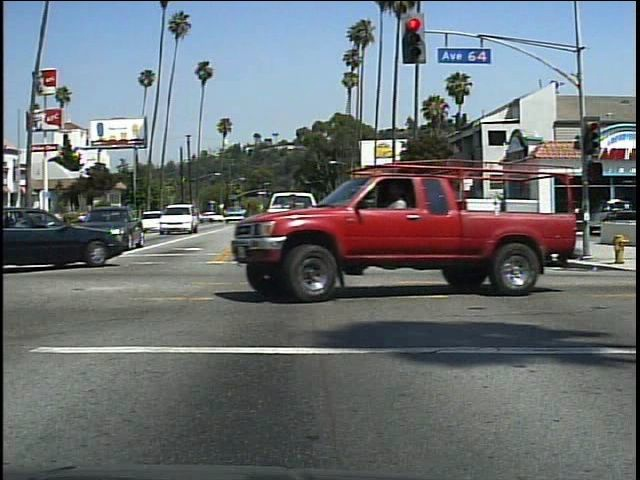person: (379, 177, 419, 290), (475, 200, 500, 236)
